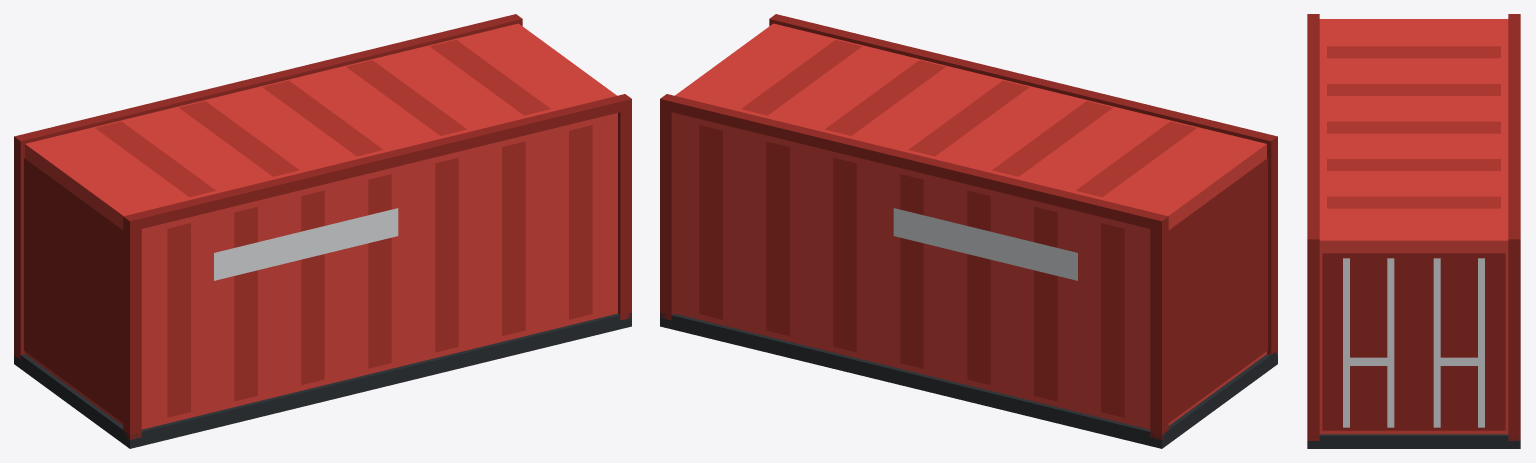
File: container_red.glb
The picture shows the model from 3 angles, left to right: view 1: azimuth 30°, elevation 25°; view 2: azimuth 150°, elevation 25°; view 3: azimuth 270°, elevation 25°; orthographic projection. The views are drawn at different scales.
Parts seen in each view (by area): view 1: container_red; view 2: container_red; view 3: container_red.
Part boxes in pixels (box(x1,y1,x2,y2)): container_red: box(14, 14, 631, 448); container_red: box(660, 14, 1277, 448); container_red: box(1307, 14, 1520, 448).
Bounding box in the file's own units: 0.604 × 0.26 × 0.242.
